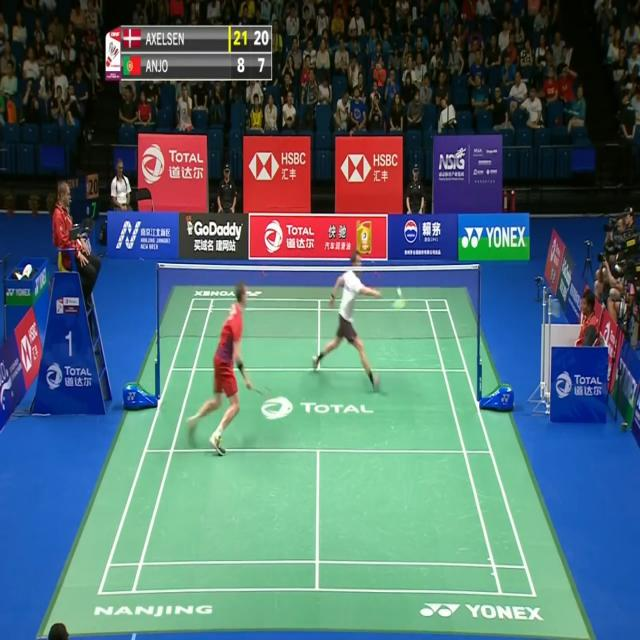Player1: (184, 284, 254, 461)
Player2: (311, 250, 385, 394)
